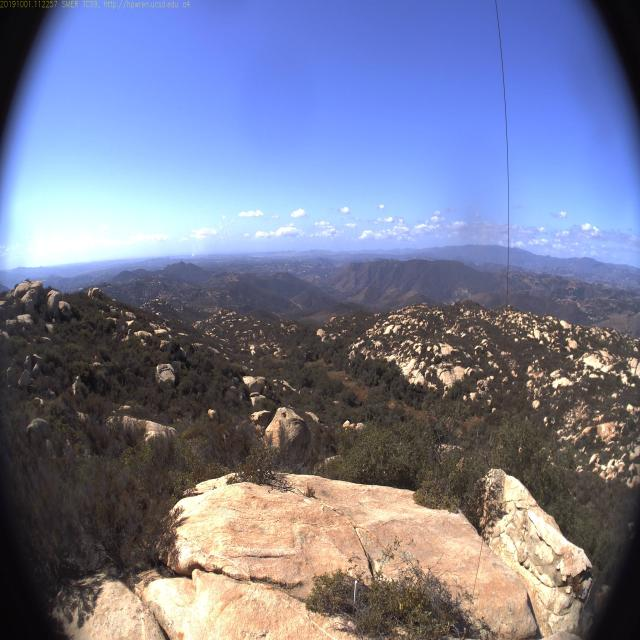smoke: (184, 239, 202, 259)
